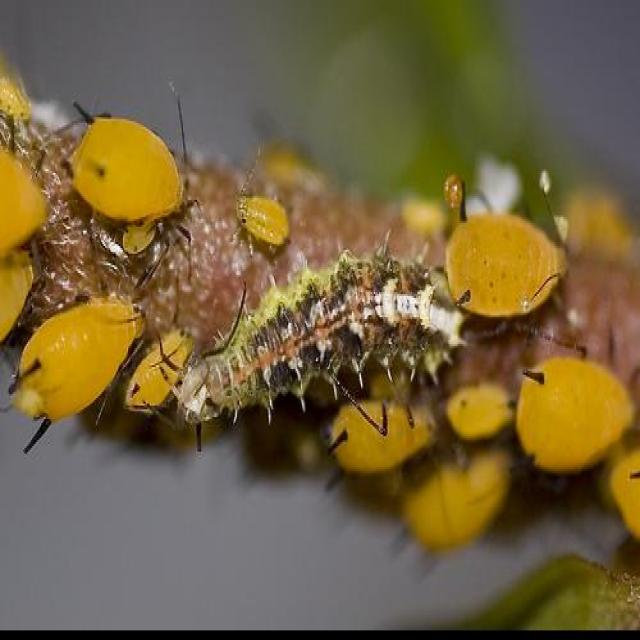Aphids: (37, 100, 213, 269), (1, 261, 147, 448), (435, 186, 580, 326), (305, 362, 441, 511), (505, 349, 640, 499), (114, 309, 210, 427), (225, 185, 304, 263)
